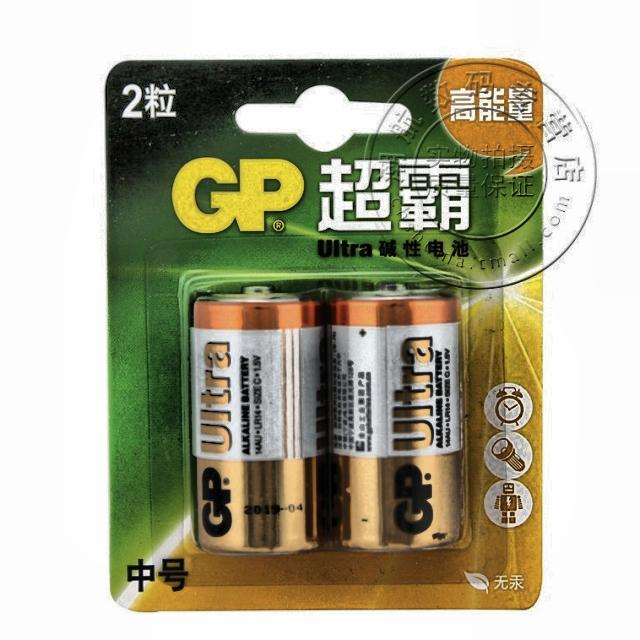Non-Valuable Waste - Batteries: (191, 294, 326, 553), (328, 297, 462, 549)
